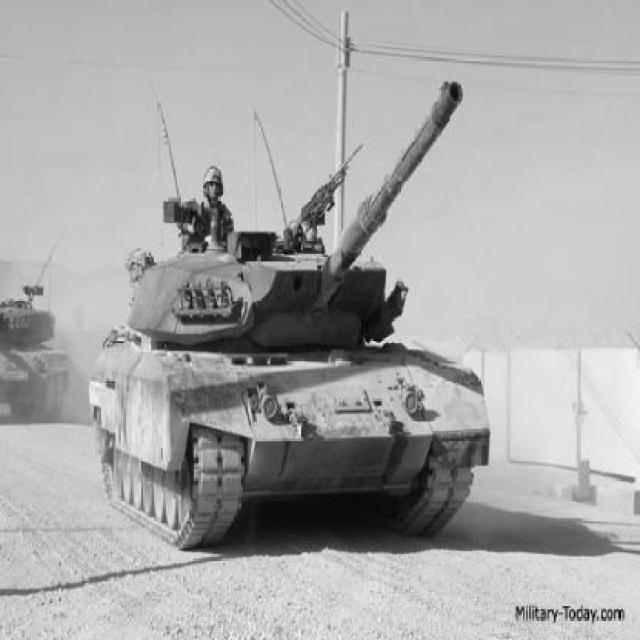Person: (189, 164, 235, 247)
Tank: (89, 78, 490, 550), (1, 283, 72, 423)
